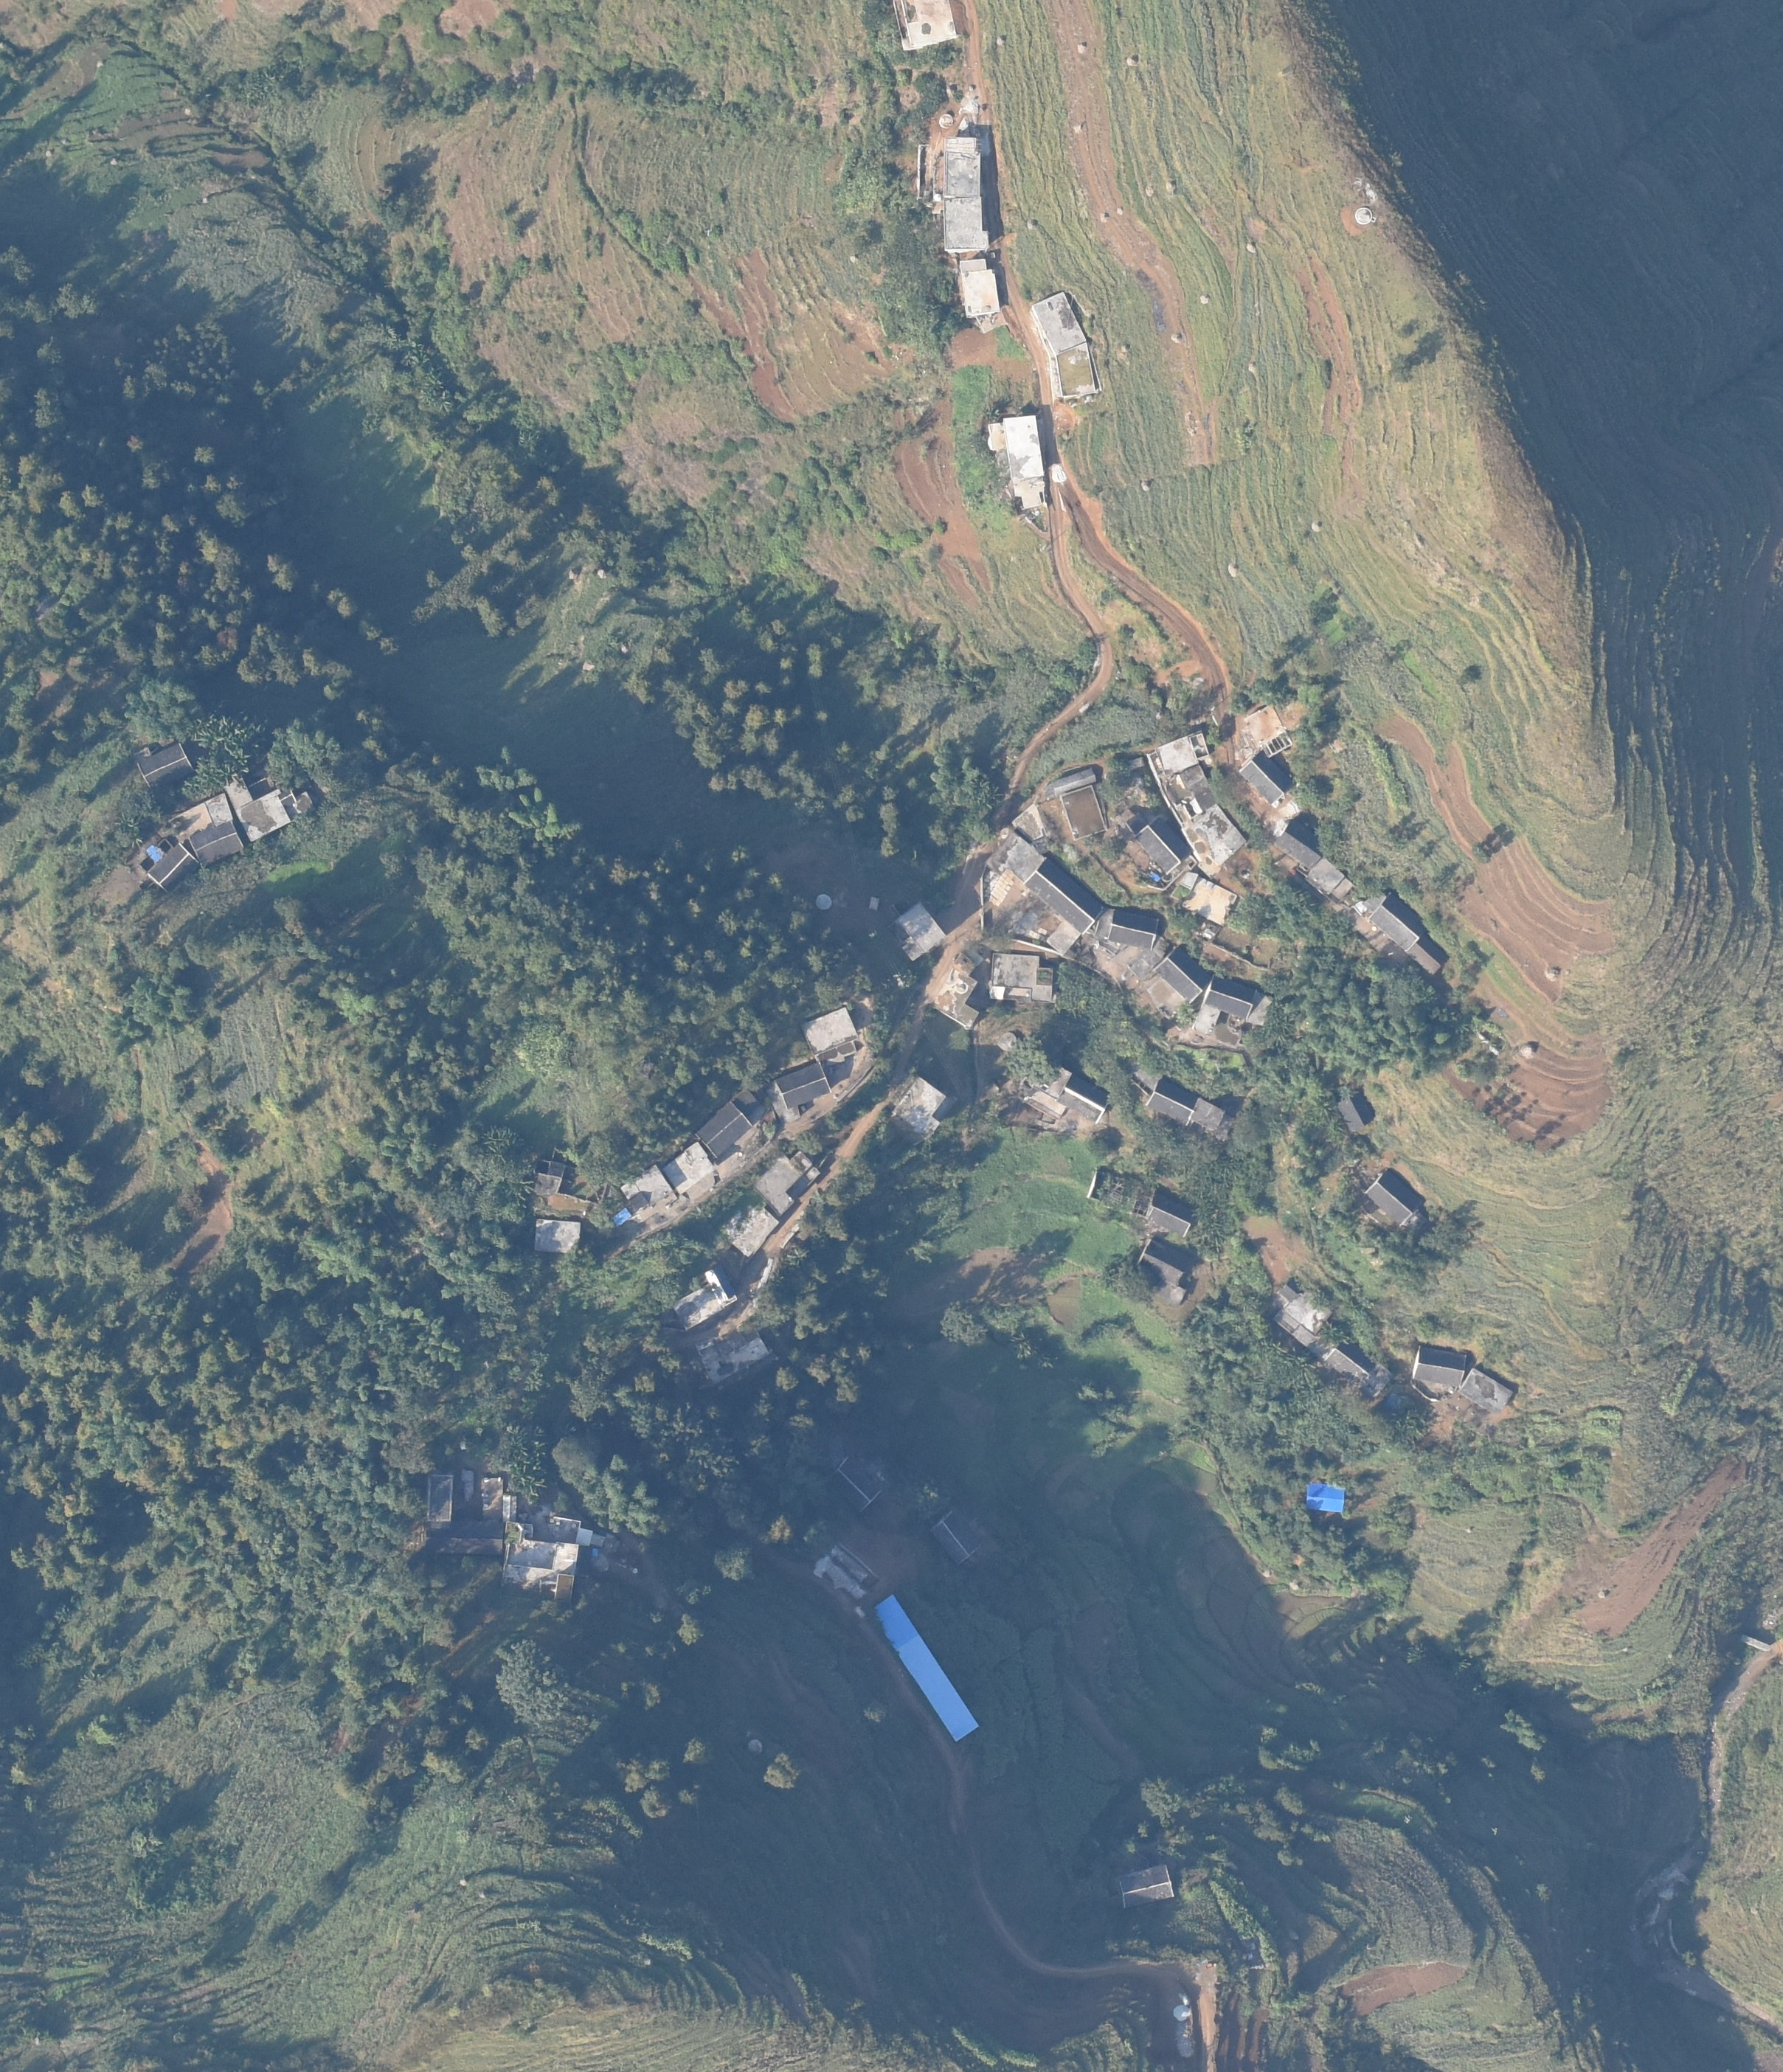building: (504, 1496, 576, 1602), (1145, 731, 1216, 823), (1025, 860, 1103, 934), (229, 777, 312, 842), (987, 418, 1047, 507), (944, 136, 990, 250), (173, 795, 245, 867), (1195, 978, 1270, 1047), (1020, 1066, 1106, 1121), (671, 1265, 736, 1332), (930, 953, 987, 1029), (1182, 805, 1244, 874), (698, 1091, 759, 1159), (1355, 893, 1425, 951), (816, 1543, 879, 1607), (1147, 1080, 1224, 1129), (758, 1152, 819, 1214), (699, 1332, 772, 1383), (766, 1066, 830, 1124), (1172, 872, 1237, 927), (891, 1078, 948, 1140), (800, 1006, 858, 1064), (1135, 818, 1195, 874), (1328, 1343, 1388, 1399), (1154, 946, 1210, 1004), (1274, 1286, 1330, 1344), (139, 837, 197, 893), (719, 1205, 781, 1258), (990, 951, 1054, 1003), (893, 2, 958, 51), (890, 904, 948, 958), (622, 1165, 677, 1223), (1038, 292, 1089, 354), (1365, 1168, 1420, 1225), (534, 1161, 594, 1212), (1239, 752, 1293, 805), (828, 1455, 881, 1510), (1133, 1242, 1189, 1291), (139, 744, 197, 791), (423, 1522, 504, 1556), (664, 1143, 717, 1193), (930, 1510, 980, 1563), (1459, 1369, 1515, 1415), (988, 837, 1043, 883), (1121, 1864, 1173, 1910), (1276, 821, 1325, 869), (1105, 909, 1159, 951), (1411, 1344, 1466, 1387), (958, 259, 999, 314), (1246, 707, 1290, 754), (1057, 342, 1096, 395), (1147, 1196, 1195, 1239), (1306, 860, 1351, 900), (536, 1219, 583, 1254), (1043, 768, 1096, 798), (426, 1469, 455, 1524), (1408, 941, 1448, 973), (1339, 1092, 1371, 1133), (1011, 807, 1045, 840), (1047, 920, 1080, 951), (483, 1476, 504, 1521), (576, 1528, 606, 1552), (867, 895, 881, 911)
prefabricated-house: (872, 1595, 980, 1743), (1306, 1484, 1344, 1513), (613, 1209, 631, 1226)
well: (997, 1031, 1018, 1050), (1355, 206, 1374, 227), (816, 893, 832, 913), (747, 1739, 763, 1757), (939, 113, 955, 129)
